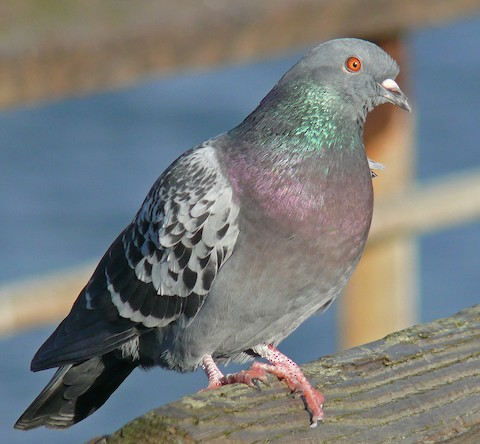pigeon: (15, 35, 414, 434)
